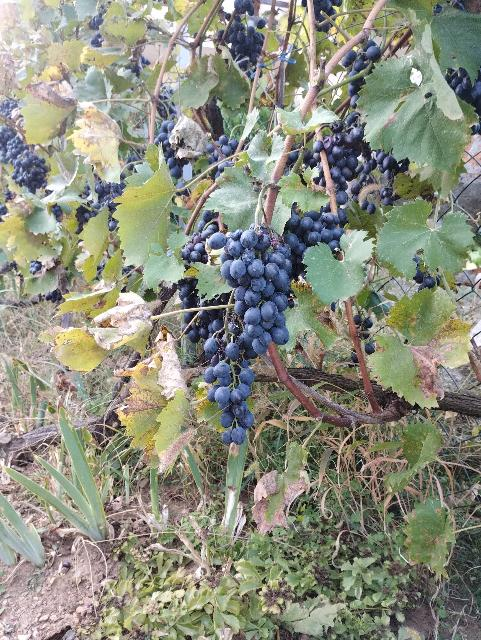grapes: (209, 228, 290, 345), (205, 316, 258, 445)
